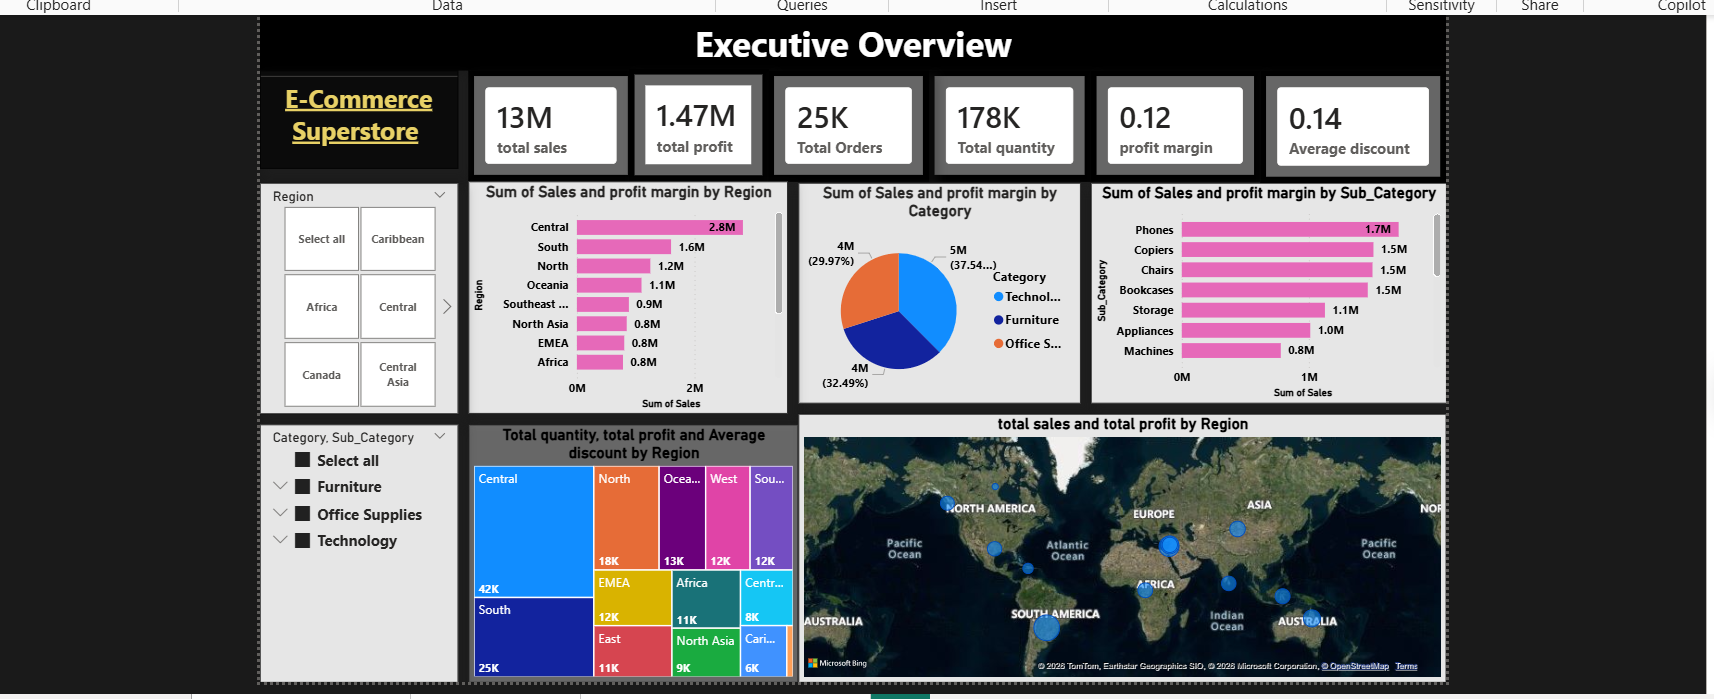

This screenshot's page, from the dashboard's own definition file:
{"tool":"powerbi","page":{"name":"Executive Overview","canvas":[1280,720],"ordinal":0},"visuals":[{"type":"textbox","box":[0,0,1280.8,59.9],"z":0},{"type":"cardVisual","fields":{"Data":["DataAnalysis_Retail3.total sales"]},"box":[225.1,59.9,178.1,119.8],"z":1000},{"type":"cardVisual","fields":{"Data":["DataAnalysis_Retail3.total profit"]},"box":[398.3,58.3,150.6,121.4],"z":2000},{"type":"cardVisual","fields":{"Data":["DataAnalysis_Retail3.Total quantity"]},"box":[722.2,59.9,174.9,119.8],"z":3000},{"type":"cardVisual","fields":{"Data":["DataAnalysis_Retail3.profit margin"]},"box":[897.1,59.9,183,119.8],"z":4000},{"type":"cardVisual","fields":{"Data":["DataAnalysis_Retail3.Average discount"]},"box":[1080,59.9,200.8,121.4],"z":5000},{"type":"cardVisual","fields":{"Data":["DataAnalysis_Retail3.Total Orders"]},"box":[548.9,59.9,173.3,119.8],"z":6000},{"type":"pieChart","fields":{"Y":["Sum(DataAnalysis_Retail3.Sales)"],"Category":["DataAnalysis_Retail3.Category"]},"box":[581.3,181.4,304.4,238],"z":7000},{"type":"clusteredBarChart","fields":{"Category":["DataAnalysis_Retail3.Region"],"Y":["Sum(DataAnalysis_Retail3.Sales)"]},"box":[225.1,179.7,344.9,251],"z":8000},{"type":"clusteredBarChart","fields":{"Category":["DataAnalysis_Retail3.Sub_Category"],"Y":["Sum(DataAnalysis_Retail3.Sales)"]},"box":[897.1,181.4,383.8,238],"z":9000},{"type":"treemap","fields":{"Group":["DataAnalysis_Retail3.Region","DataAnalysis_Retail3.Region Hierarchy.Region","DataAnalysis_Retail3.Region Hierarchy.Country","DataAnalysis_Retail3.Region Hierarchy.State"],"Values":["DataAnalysis_Retail3.Total quantity"]},"box":[225.1,442,356.2,278.5],"z":10000},{"type":"slicer","fields":{"Values":["DataAnalysis_Retail3.Region"]},"box":[0,181.4,213.7,249.4],"z":11000},{"type":"slicer","fields":{"Values":["DataAnalysis_Retail3.Category","DataAnalysis_Retail3.Sub_Category"]},"box":[0,442,213.7,278.5],"z":12000},{"type":"textbox","box":[0,59.9,213.7,106],"z":13000},{"type":"map","fields":{"Category":["DataAnalysis_Retail3.Region Hierarchy.Region","DataAnalysis_Retail3.Region Hierarchy.Country","DataAnalysis_Retail3.Region Hierarchy.State"],"Size":["DataAnalysis_Retail3.total sales"]},"box":[581.3,430.7,699.5,289.8],"z":14000}]}

Visuals, with their boxes in screenshot pixels (x1, y1, x2, y2):
textbox: (254, 9, 1440, 64)
cardVisual - DataAnalysis_Retail3.total sales: (463, 64, 628, 175)
cardVisual - DataAnalysis_Retail3.total profit: (623, 63, 763, 175)
cardVisual - DataAnalysis_Retail3.Total quantity: (923, 64, 1085, 175)
cardVisual - DataAnalysis_Retail3.profit margin: (1085, 64, 1254, 175)
cardVisual - DataAnalysis_Retail3.Average discount: (1254, 64, 1440, 177)
cardVisual - DataAnalysis_Retail3.Total Orders: (763, 64, 923, 175)
pieChart - Sum(DataAnalysis_Retail3.Sales) x DataAnalysis_Retail3.Category: (793, 177, 1074, 397)
clusteredBarChart - DataAnalysis_Retail3.Region x Sum(DataAnalysis_Retail3.Sales): (463, 175, 782, 408)
clusteredBarChart - DataAnalysis_Retail3.Sub_Category x Sum(DataAnalysis_Retail3.Sales): (1085, 177, 1440, 397)
treemap - DataAnalysis_Retail3.Region x DataAnalysis_Retail3.Region Hierarchy.Region: (463, 418, 793, 676)
slicer - DataAnalysis_Retail3.Region: (254, 177, 452, 408)
slicer - DataAnalysis_Retail3.Category x DataAnalysis_Retail3.Sub_Category: (254, 418, 452, 676)
textbox: (254, 64, 452, 163)
map - DataAnalysis_Retail3.Region Hierarchy.Region x DataAnalysis_Retail3.Region Hierarchy.Country: (793, 408, 1440, 676)
